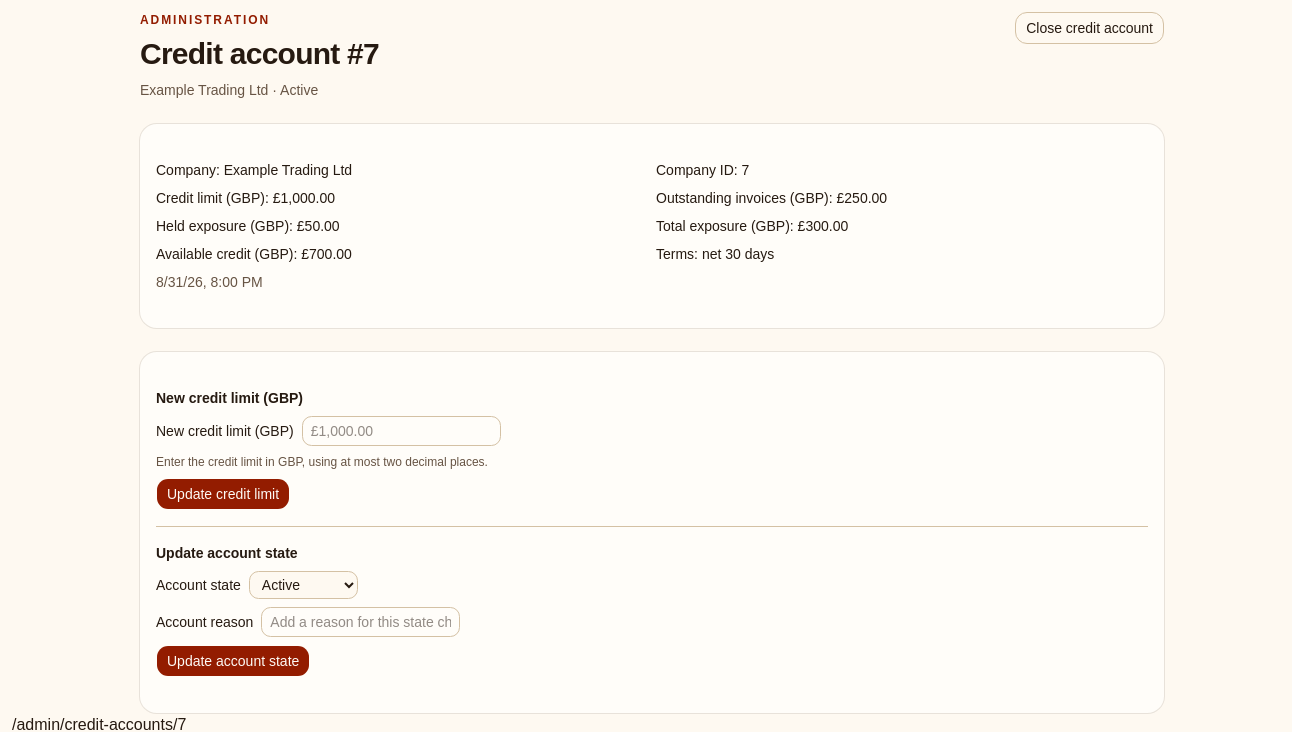
Test: AdminCreditAccountDetailPage › parses GBP exactly, sends one versioned mutation, and reloads account detail
The width and height of the screenshot is (1292, 732).
Expected: the heading "Credit account #7" is shown, [140,36,379,72]
Type "1250.05" into the field labelled "New credit limit (GBP)" at x=401, y=431, box [302,416,501,446]
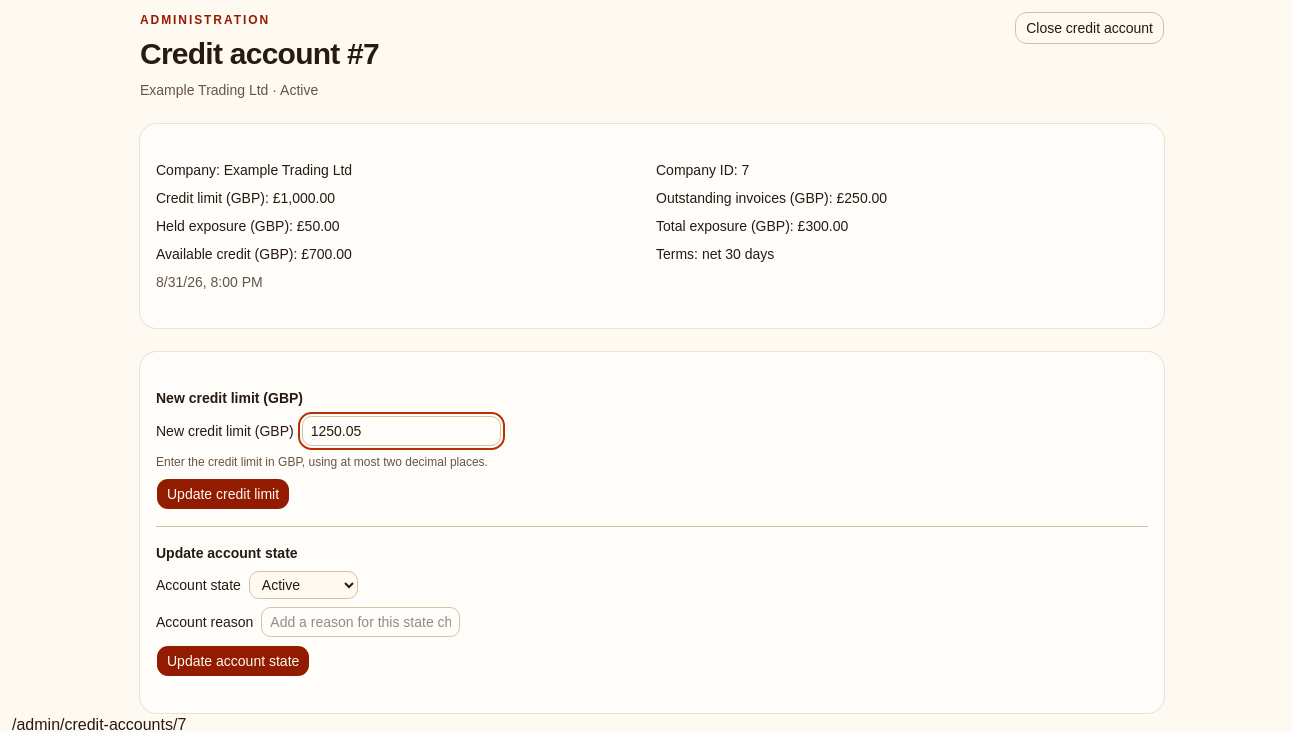
Click the button "Update credit limit" at x=223, y=494, box [156,478,290,510]
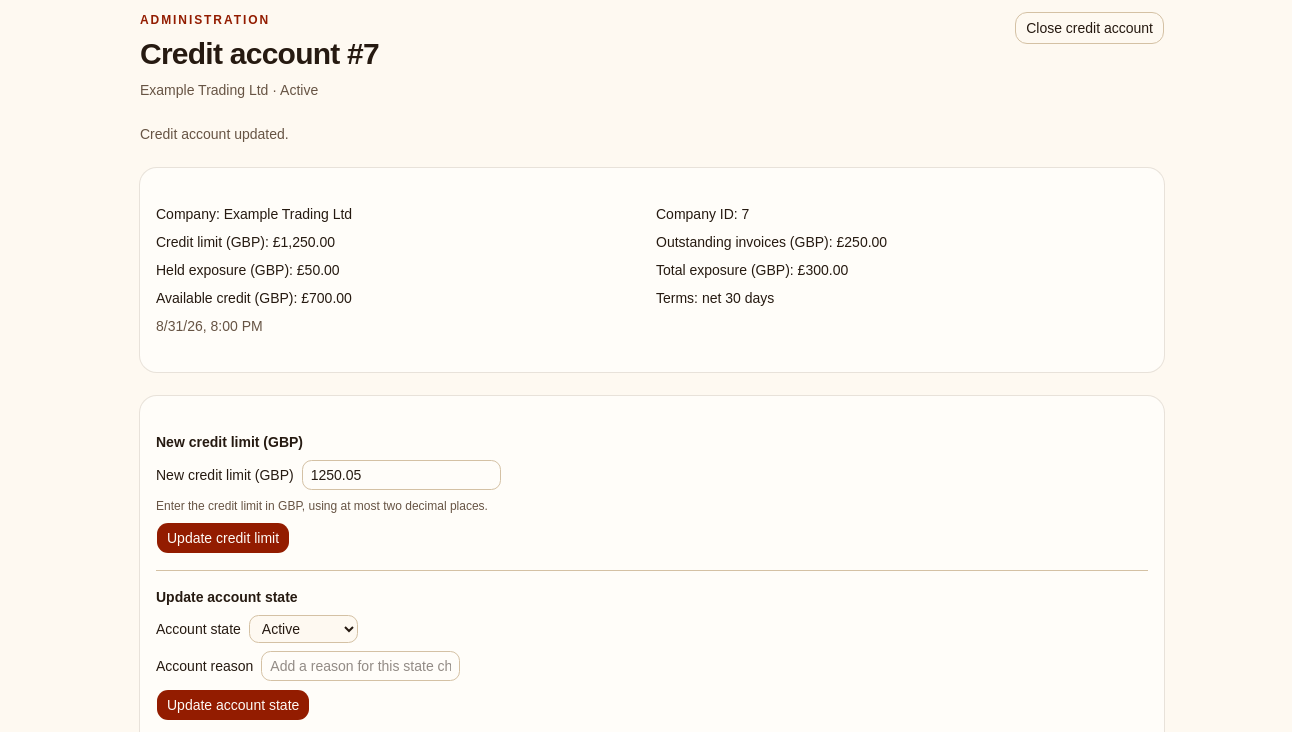
Result: the text "Credit account updated." is shown at [140,126,289,142]
